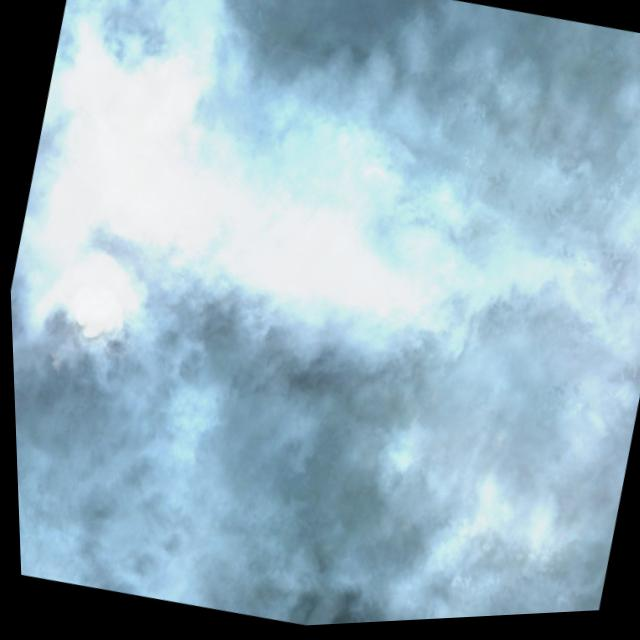fire: (17, 0, 282, 425)
